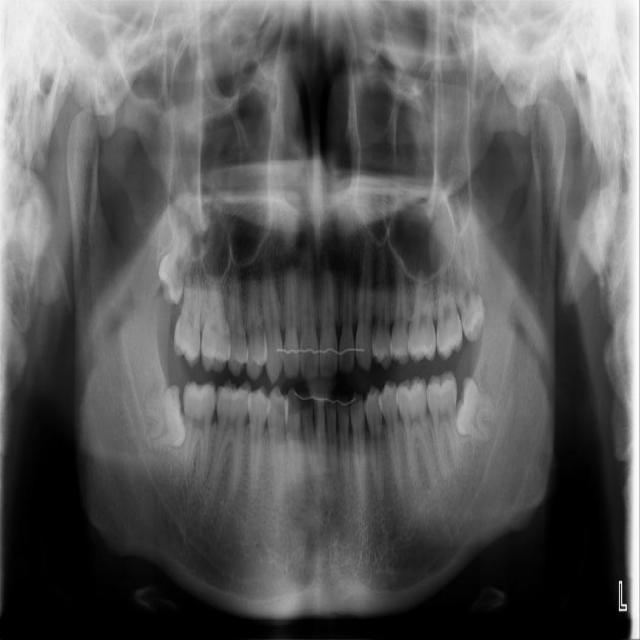impacted tooth: (130, 383, 186, 449), (455, 376, 504, 440), (158, 213, 188, 300)
